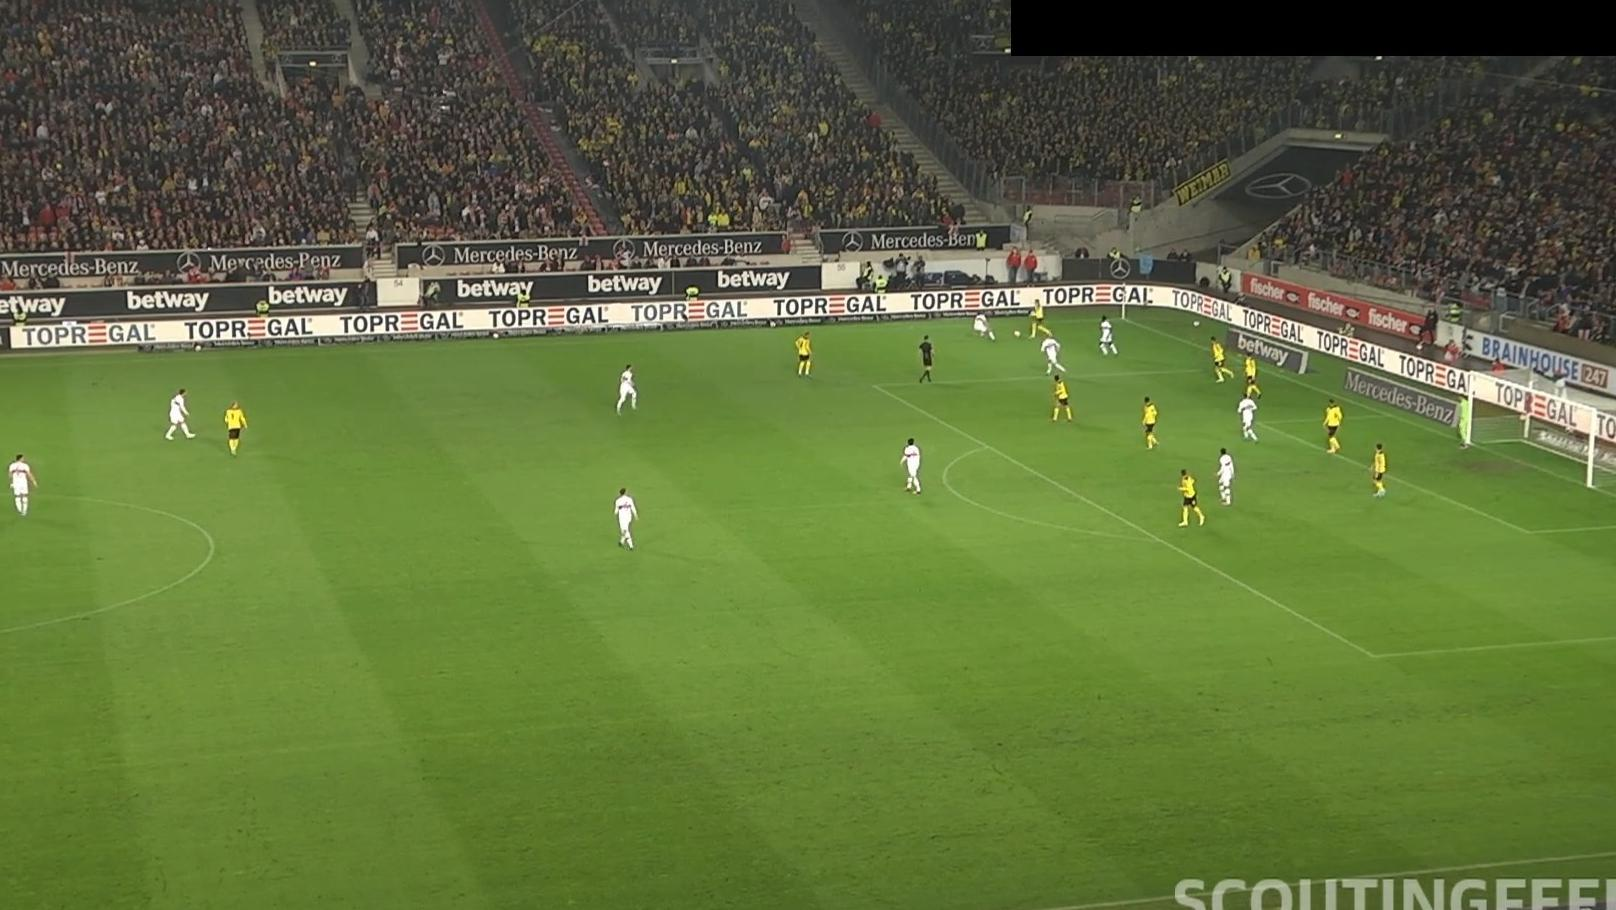ball: (1012, 328, 1022, 338)
